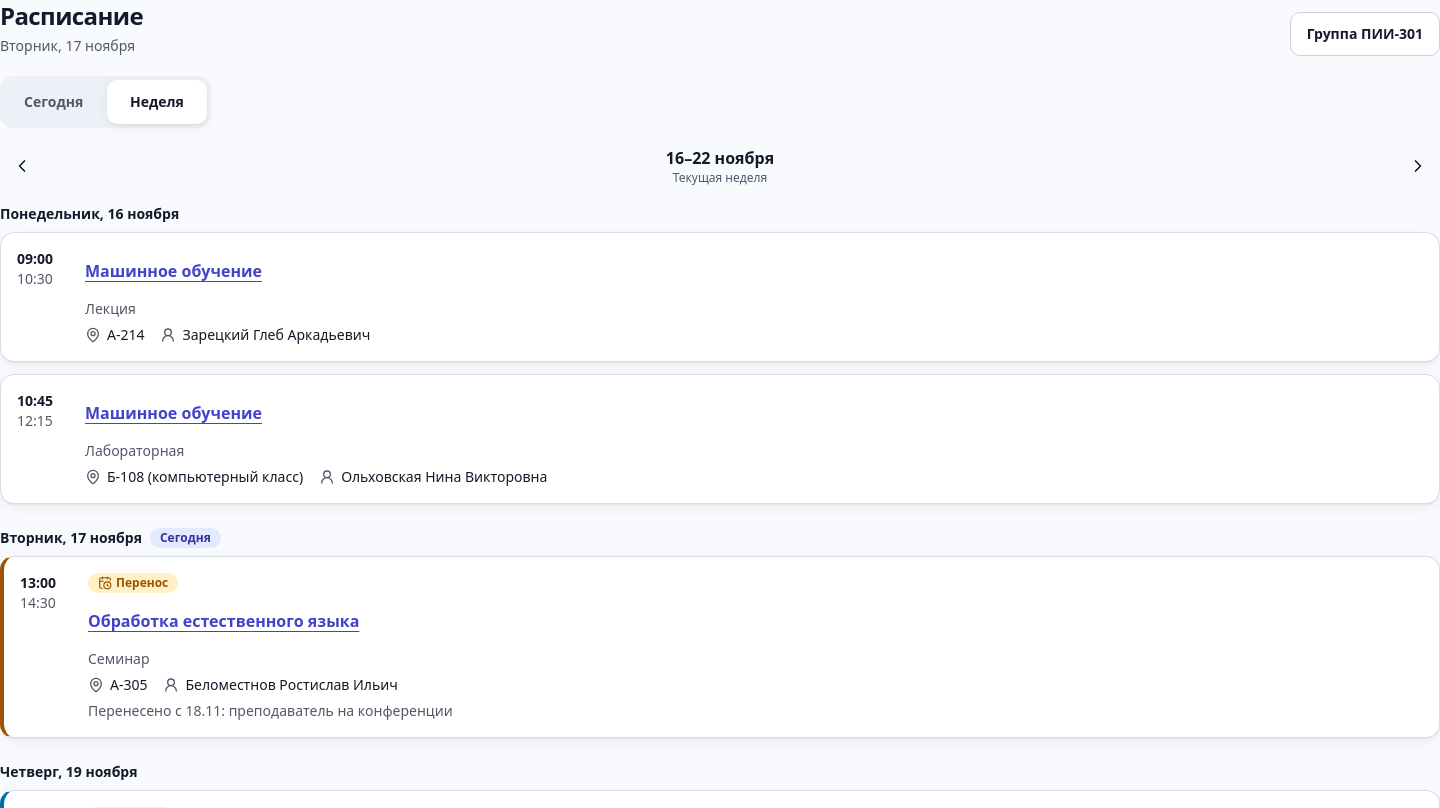
it: SchedulePage › листание: «Следующая неделя» меняет адрес
Check: the heading "Понедельник, 16 ноября" is shown, box [0,204,179,223]
Click the button named "Следующая неделя": (1418, 166) [1396,144,1439,188]
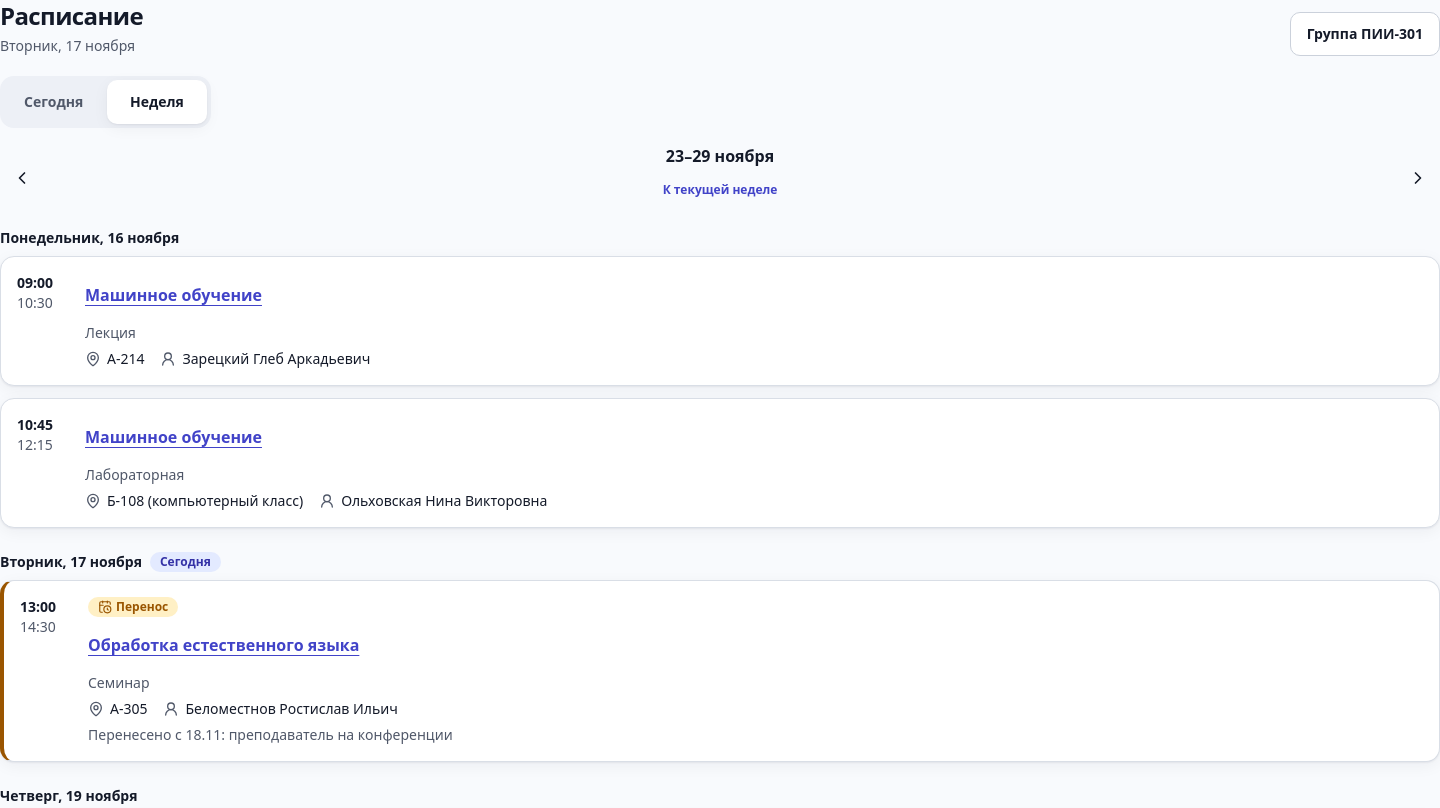
Check: the text "23–29 ноября" is shown, box [666,144,774,168]
